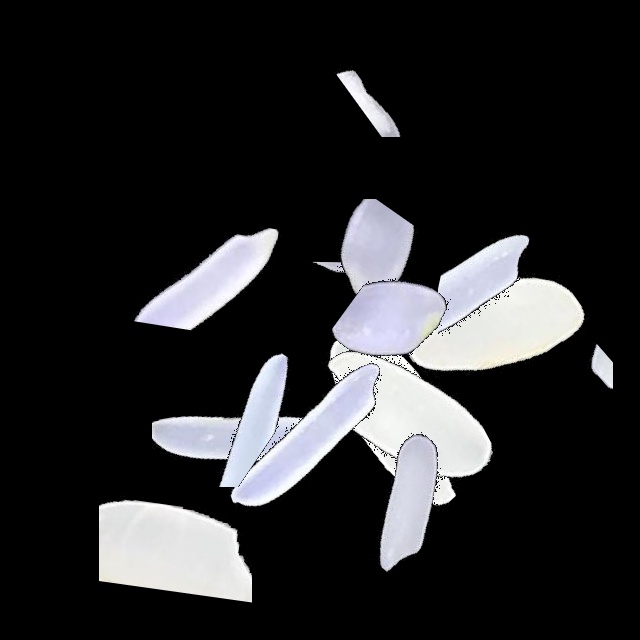Broken: (152, 272, 318, 522), (83, 167, 333, 332), (225, 199, 475, 360), (295, 262, 545, 422), (99, 389, 252, 639), (438, 171, 583, 421), (76, 353, 326, 487), (283, 31, 533, 137), (197, 261, 447, 353), (522, 254, 613, 504)
Full: (271, 291, 521, 541), (285, 288, 535, 538), (278, 378, 528, 628), (181, 314, 431, 564), (364, 200, 614, 450)
